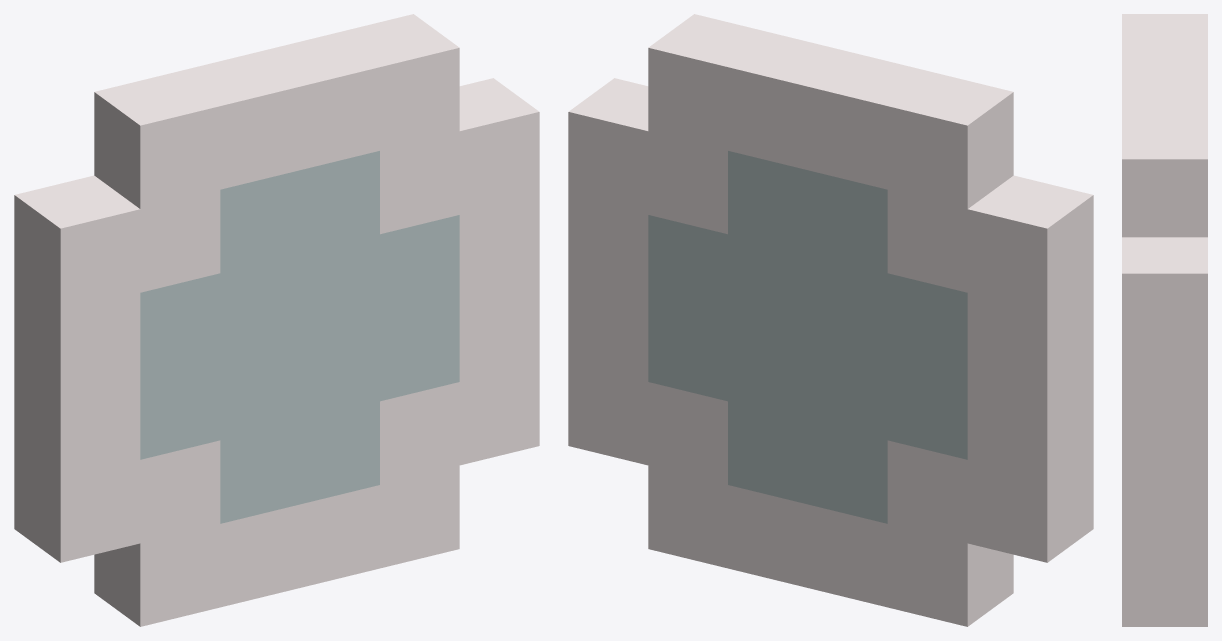
3 views of the same model, side by side, from view 1: azimuth 30°, elevation 25°; view 2: azimuth 150°, elevation 25°; view 3: azimuth 270°, elevation 25° (orthographic). The views are drawn at different scales.
Parts seen in each view (by area): view 1: 87.1; view 2: 87.1; view 3: 87.1.
Boxes of the visible parts, left/top/right/bottom form: 87.1: left=14, top=14, right=539, bottom=626; 87.1: left=568, top=14, right=1093, bottom=626; 87.1: left=1122, top=14, right=1207, bottom=626.
Bounding box in the file's own units: 60 × 60 × 10.
1 material, 1 textured.
